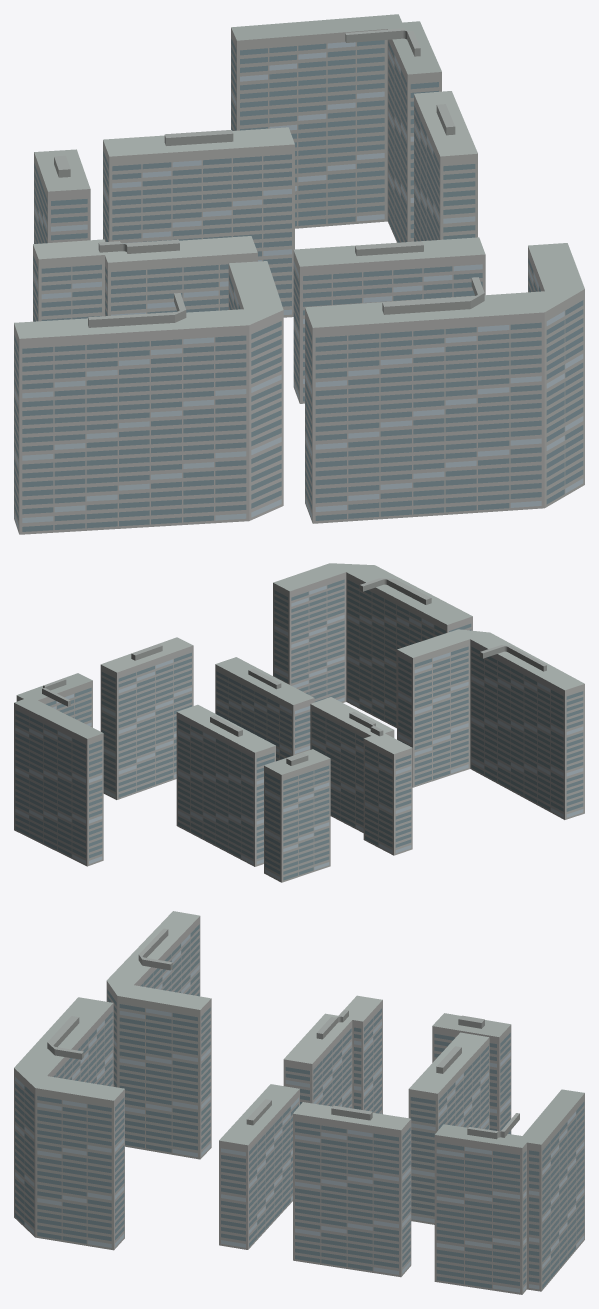
The model's file is apt-a14072702.glb.
3 views of the same model, one above another, from view 1: azimuth 30°, elevation 25°; view 2: azimuth 150°, elevation 25°; view 3: azimuth 270°, elevation 25° (orthographic). The views are drawn at different scales.
Parts seen in each view (by area): view 1: apt-a14072702; view 2: apt-a14072702; view 3: apt-a14072702.
Boxes of the visible parts, x1,y1,x2,y2 form: apt-a14072702: [14, 14, 584, 534]; apt-a14072702: [14, 563, 584, 882]; apt-a14072702: [14, 911, 584, 1294].
Size of the model in its own units: 197 by 61 by 203.
